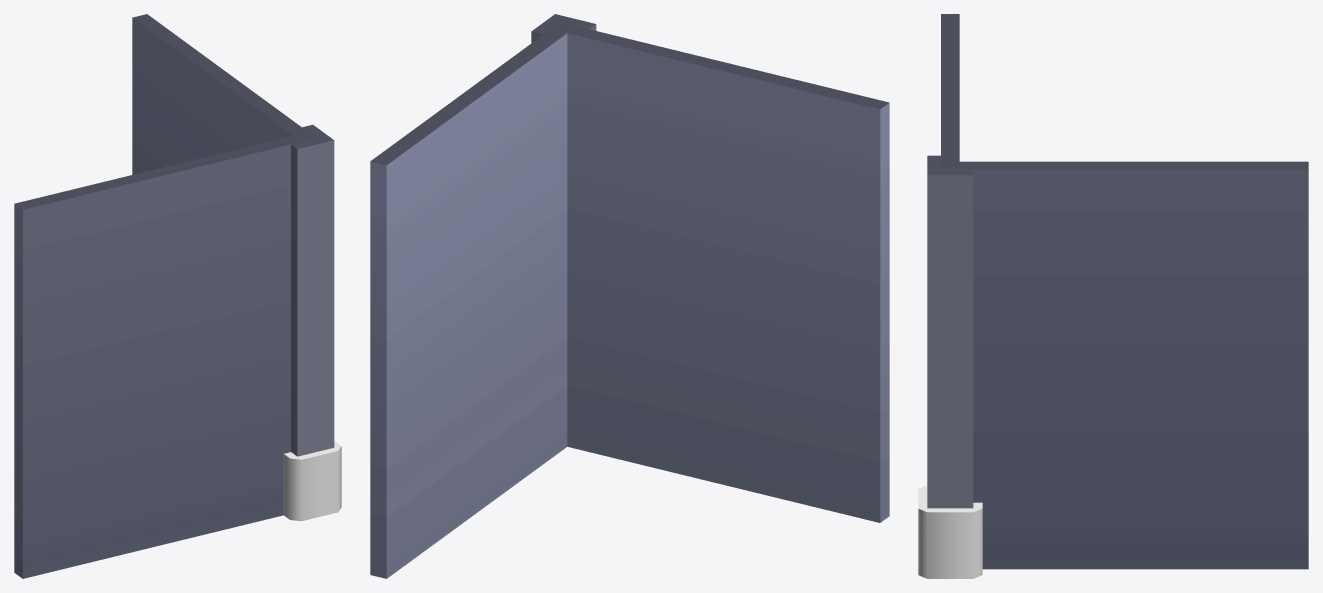
Rendered from wall-corner-column-bottom.glb.
The picture shows the model from 3 angles, left to right: view 1: azimuth 30°, elevation 25°; view 2: azimuth 150°, elevation 25°; view 3: azimuth 270°, elevation 25°; orthographic projection. The views are drawn at different scales.
Parts seen in each view (by area): view 1: wall-corner-column-bottom; view 2: wall-corner-column-bottom; view 3: wall-corner-column-bottom.
Boxes of the visible parts, bbox=[...] form: wall-corner-column-bottom: bbox=[14, 14, 341, 578]; wall-corner-column-bottom: bbox=[370, 14, 889, 578]; wall-corner-column-bottom: bbox=[918, 14, 1308, 578].
Size of the model in its own units: 2.12 by 2.4 by 2.12.
1 material, 1 textured.
